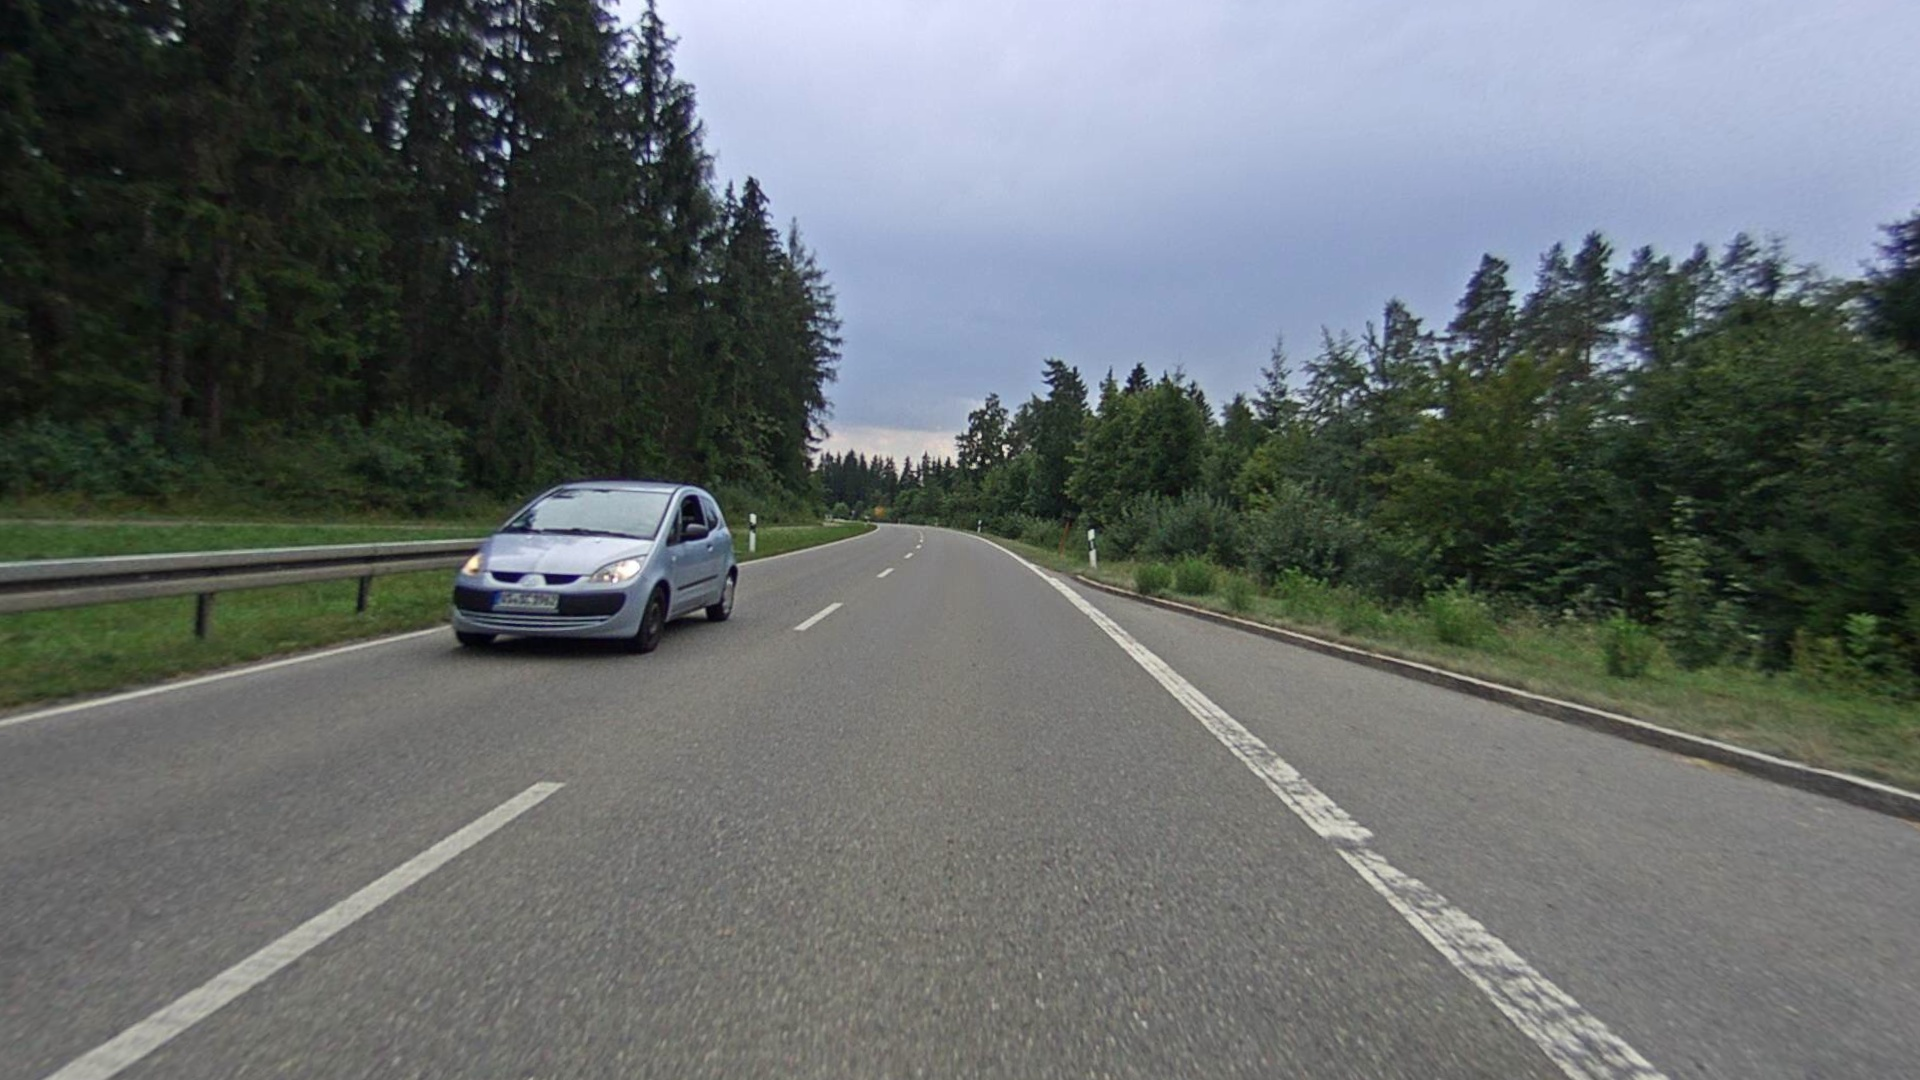car: (448, 477, 740, 658)
